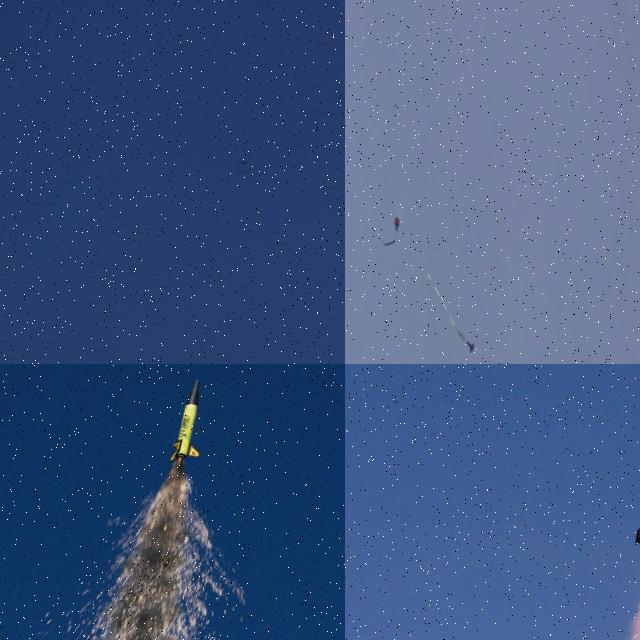Rocket: (168, 379, 202, 462), (457, 330, 474, 354)
